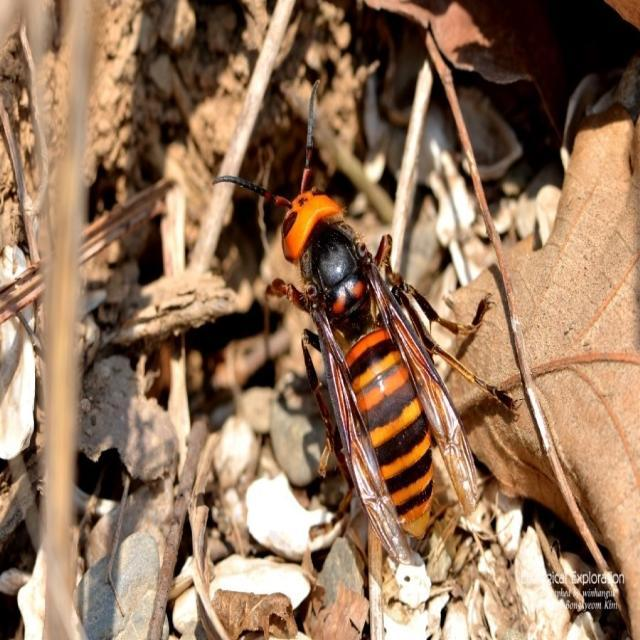Wasp: (254, 162, 488, 556)
